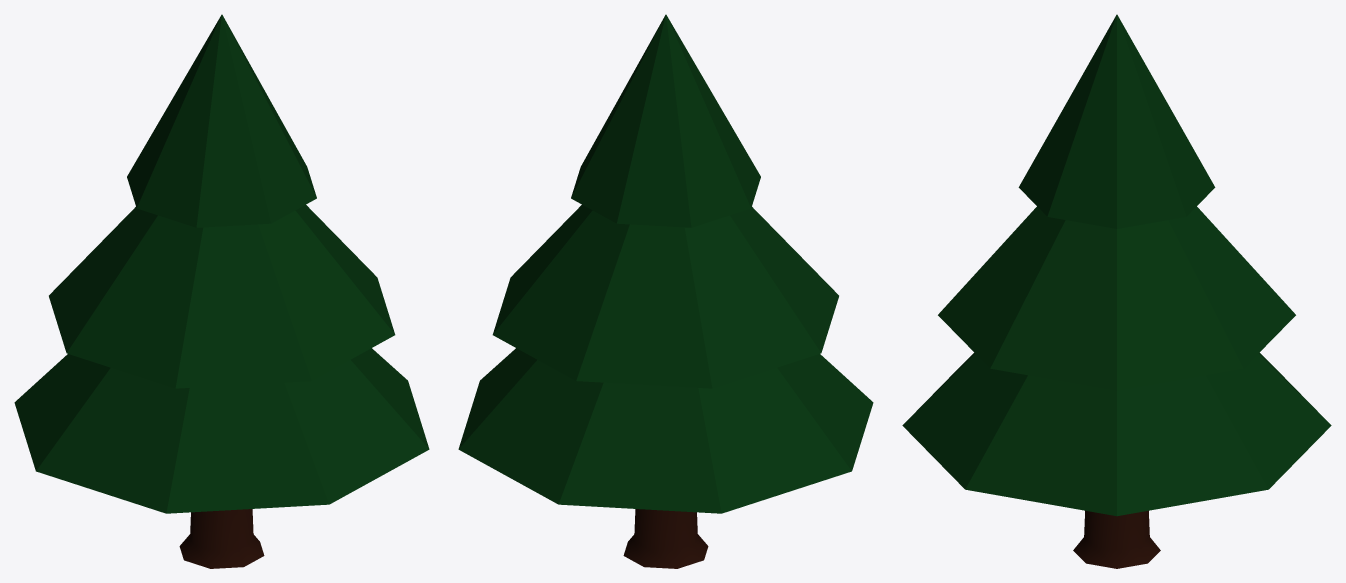
The model's file is kuusi1.fbx.
The picture shows the model from 3 angles, left to right: view 1: azimuth 30°, elevation 25°; view 2: azimuth 150°, elevation 25°; view 3: azimuth 270°, elevation 25°; orthographic projection.
Visible parts, largest first — view 1: kuusi2; view 2: kuusi2; view 3: kuusi2.
Part boxes in pixels (left/top/right/bottom): kuusi2: left=14, top=14, right=429, bottom=568; kuusi2: left=458, top=14, right=873, bottom=568; kuusi2: left=902, top=14, right=1331, bottom=568.
Size of the model in its own units: 900 by 1242 by 900.
